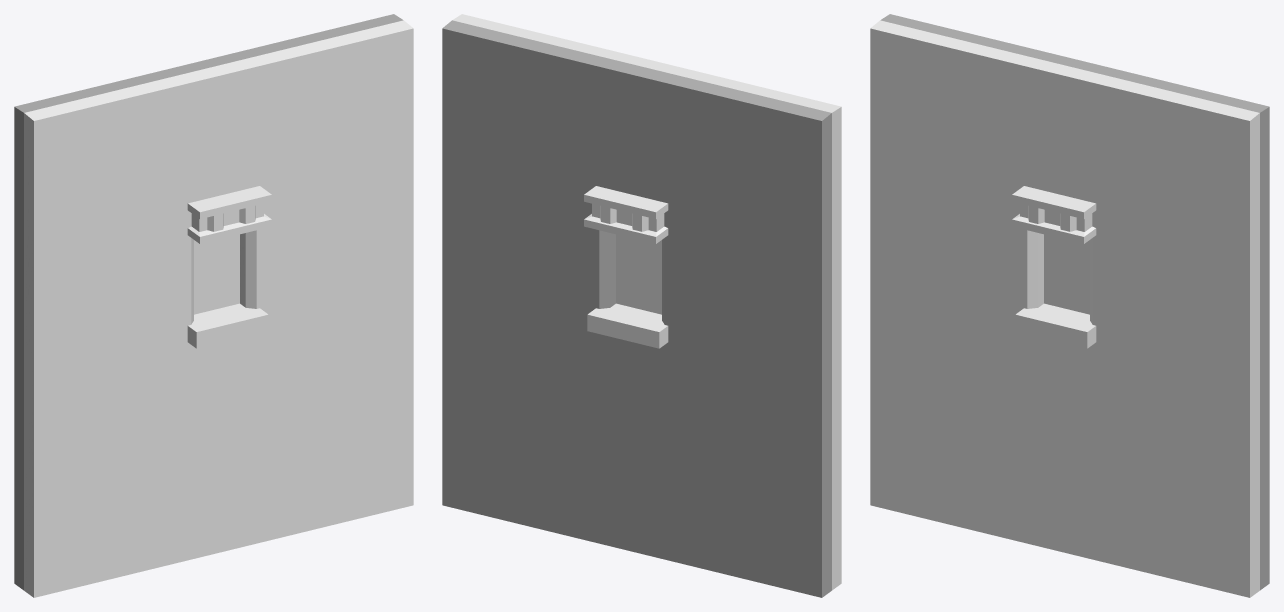
Rendered from SM_Bld_Wall_Window_03.glb.
3 renders of one model, left to right at view 1: azimuth 30°, elevation 25°; view 2: azimuth 150°, elevation 25°; view 3: azimuth 330°, elevation 25°, orthographic.
Parts seen in each view (by area): view 1: SM_Bld_Wall_Window_03; view 2: SM_Bld_Wall_Window_03; view 3: SM_Bld_Wall_Window_03.
Part boxes in pixels (box(x1,y1,x2,y2)): SM_Bld_Wall_Window_03: box(14, 14, 413, 597); SM_Bld_Wall_Window_03: box(442, 14, 841, 597); SM_Bld_Wall_Window_03: box(870, 14, 1269, 597).
Size of the model in its own units: 2.5 by 3.01 by 0.5007.
4 materials, 1 textured.
